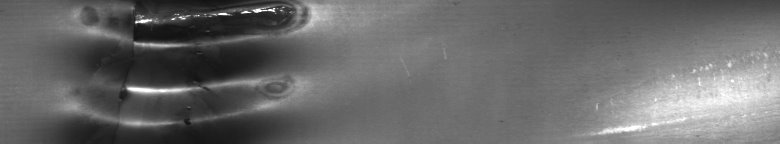ke: (54, 4, 320, 136)
